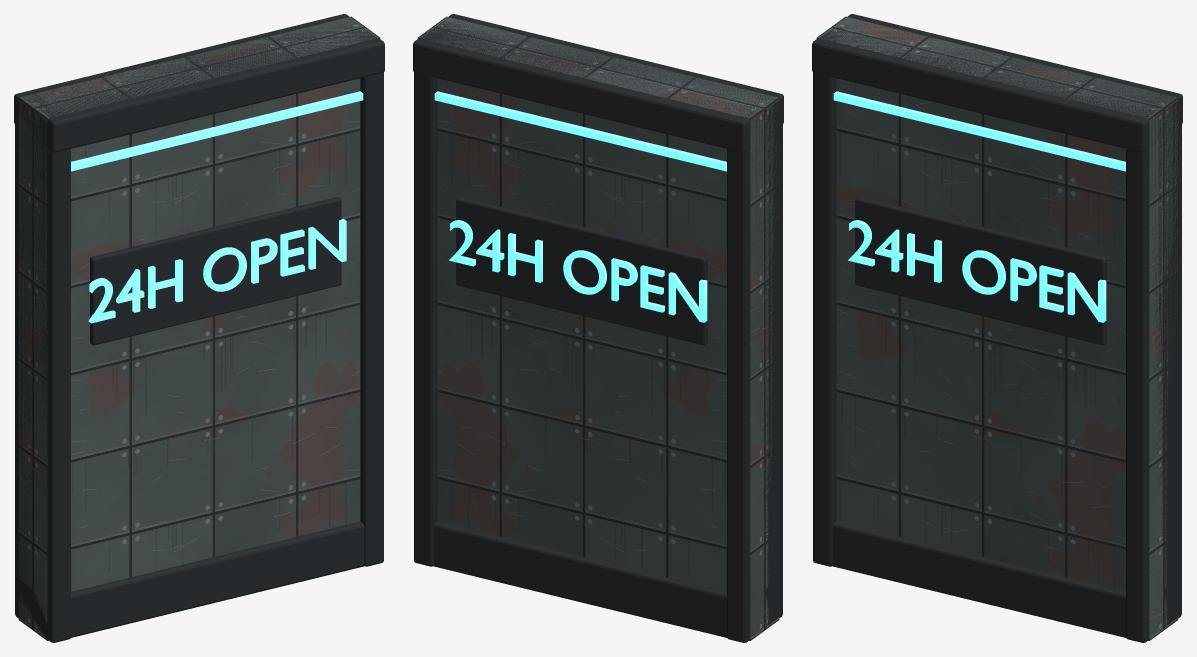
Rendered from wall_neon_teal.glb.
3 renders of one model, left to right at view 1: azimuth 30°, elevation 25°; view 2: azimuth 150°, elevation 25°; view 3: azimuth 330°, elevation 25°, orthographic.
Visible parts, largest first — view 1: wall_neon_teal; view 2: wall_neon_teal; view 3: wall_neon_teal.
Part boxes in pixels (x1,y1,x2,y2): wall_neon_teal: [14, 14, 384, 642]; wall_neon_teal: [413, 14, 783, 642]; wall_neon_teal: [812, 14, 1182, 642].
Bounding box in the file's own units: 2 × 3 × 0.43.
3 materials, 1 textured.
